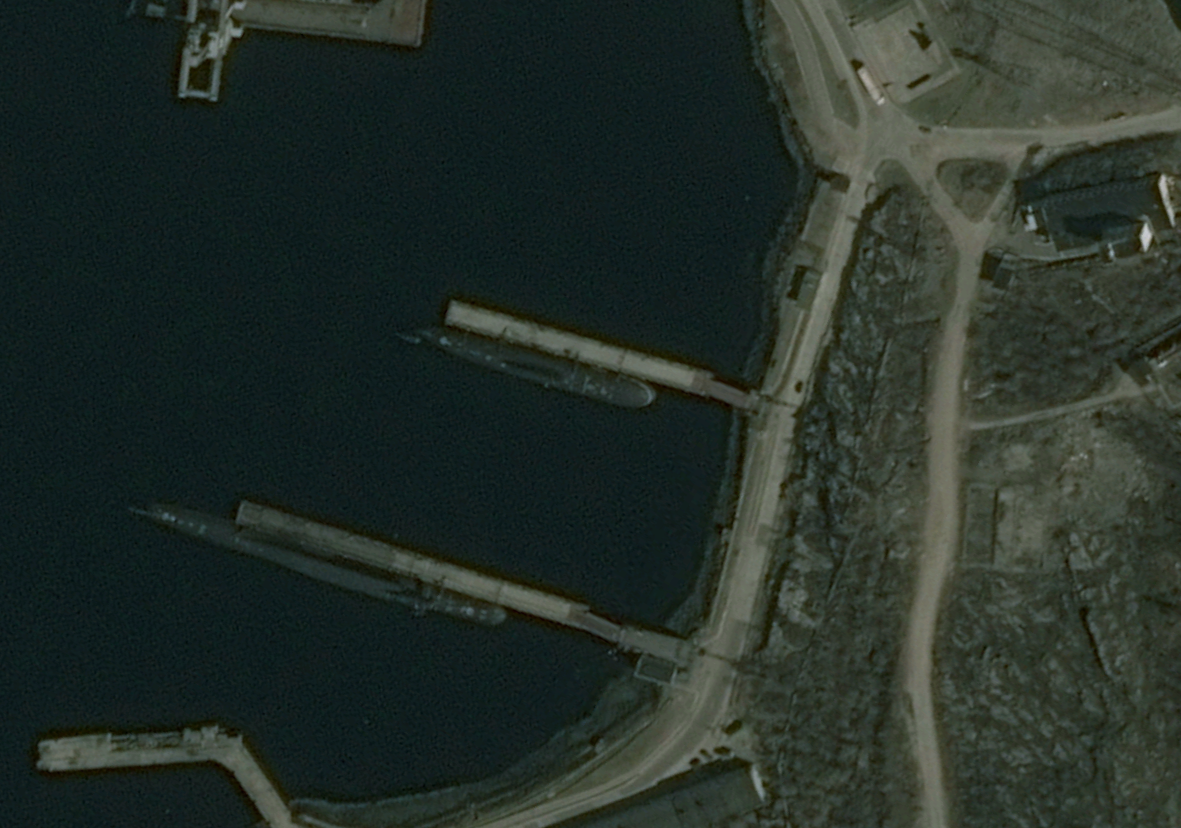submarine: (126, 498, 509, 623), (389, 322, 654, 410)
